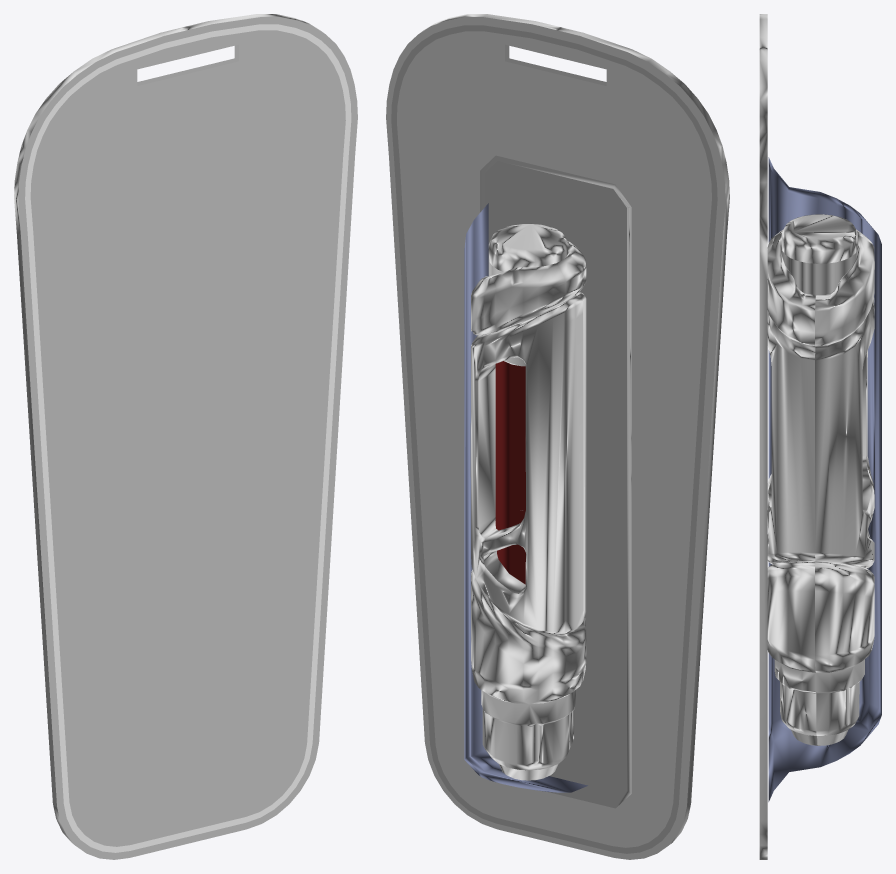
Rendered from packaging_medpen_1_single_a.glb.
3 renders of one model, left to right at view 1: azimuth 30°, elevation 25°; view 2: azimuth 150°, elevation 25°; view 3: azimuth 270°, elevation 25°, orthographic. The views are drawn at different scales.
Bounding box in the file's own units: 0.108 × 0.2472 × 0.0357.
